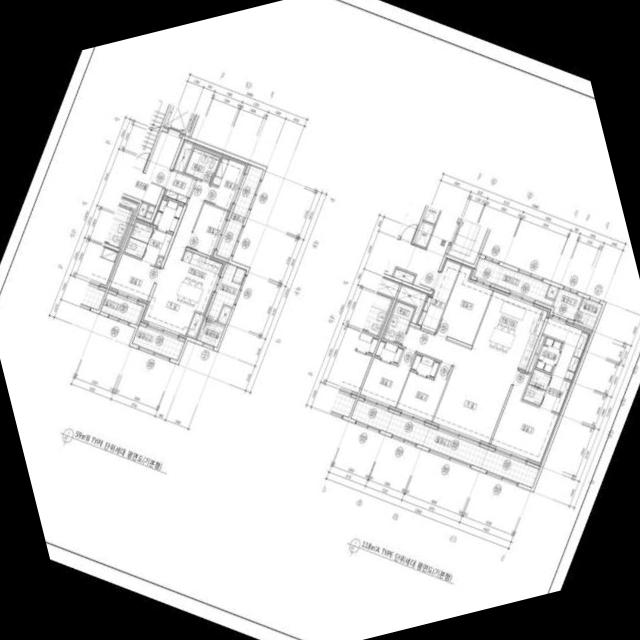background: (0, 0, 640, 640)
space_balconi: (350, 400, 538, 487), (215, 164, 262, 259), (473, 257, 552, 305), (206, 263, 245, 321), (131, 325, 183, 360), (100, 292, 142, 324), (552, 288, 581, 320)
space_bedroom: (489, 370, 557, 465), (435, 265, 492, 345), (394, 353, 451, 423), (358, 339, 415, 409), (108, 253, 159, 303), (204, 153, 247, 210), (186, 202, 228, 256)
space_dressroom: (534, 336, 562, 372)
space_elevator: (446, 218, 487, 264), (162, 104, 196, 136)
space_elevator_hall: (383, 210, 458, 290), (122, 130, 181, 205)
space_front: (416, 259, 460, 332), (164, 170, 194, 203)
space_kitchen: (470, 288, 548, 369), (166, 250, 224, 314)
space_living_room: (401, 325, 517, 445), (140, 180, 208, 338)
space_other: (539, 317, 588, 412), (396, 285, 425, 323), (172, 139, 193, 172), (527, 335, 544, 372), (413, 221, 433, 247), (185, 312, 204, 339), (392, 268, 414, 283), (422, 205, 439, 223), (217, 305, 230, 324), (545, 284, 557, 299), (144, 205, 154, 219), (137, 202, 147, 216), (155, 257, 162, 265)
space_outdoor_room: (573, 297, 601, 329), (196, 318, 224, 347)
space_staircase: (132, 100, 168, 170)
space_toilet: (123, 221, 171, 265), (382, 300, 414, 344), (183, 147, 219, 182), (150, 197, 183, 233), (521, 368, 550, 405)
